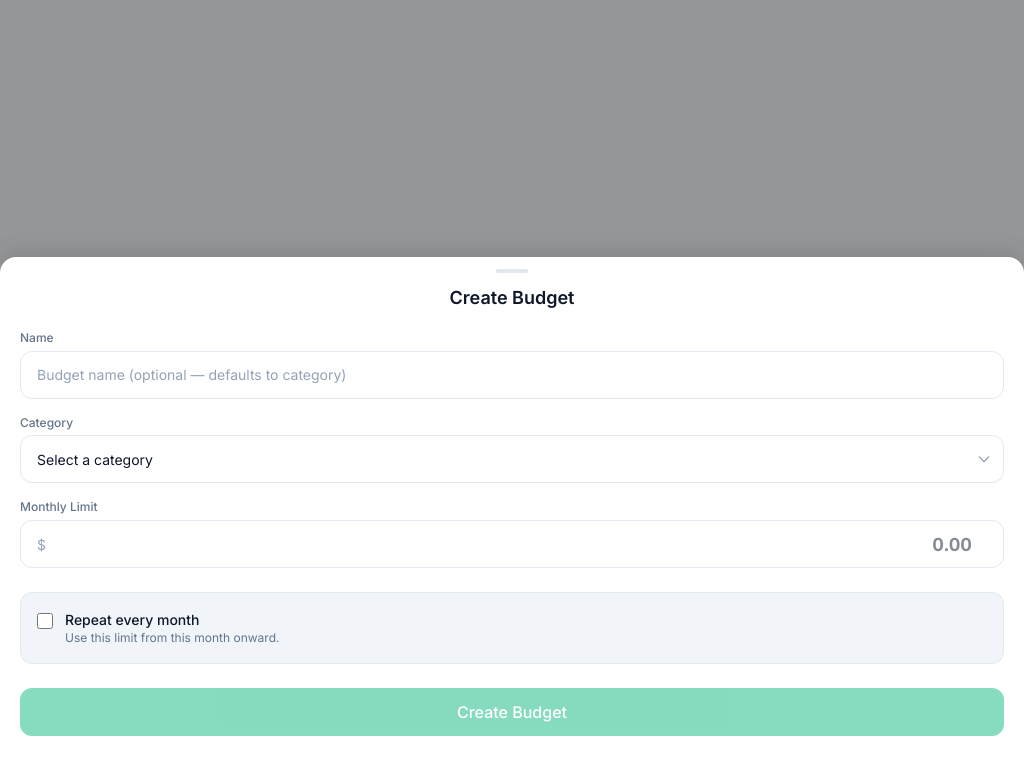
CreateBudgetSheet › Create button is enabled when category and valid amount are set
The image size is (1024, 768).
Select "🍽️ Food" in the dropdown with test id "category-select": point(512, 459) [20,435,1004,483]
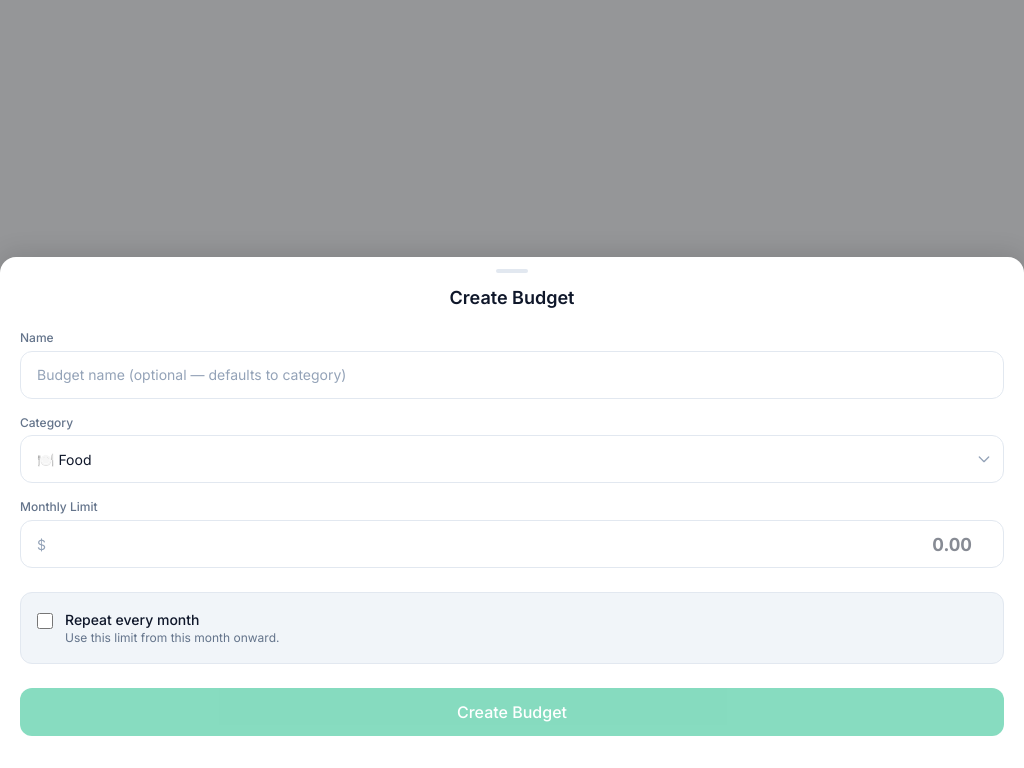
In the number field with test id "amount-input": point(526, 544) [50,521,1003,567], type "150"
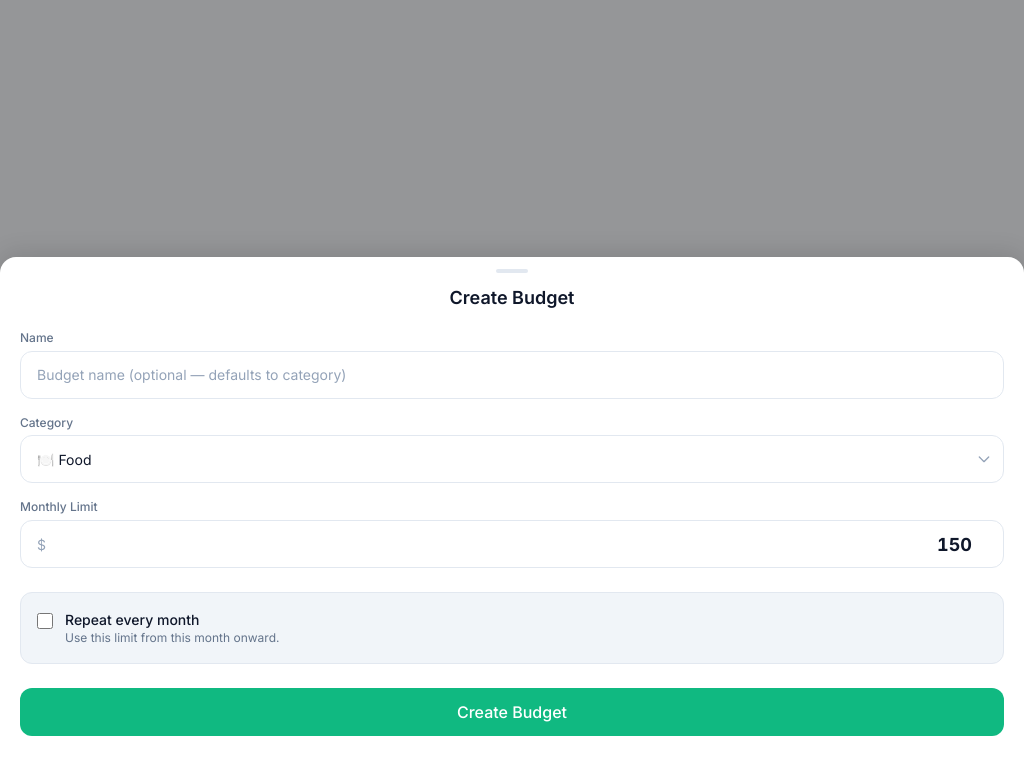
Expected: the button with test id "create-submit-btn" is enabled, [20,688,1004,736]
